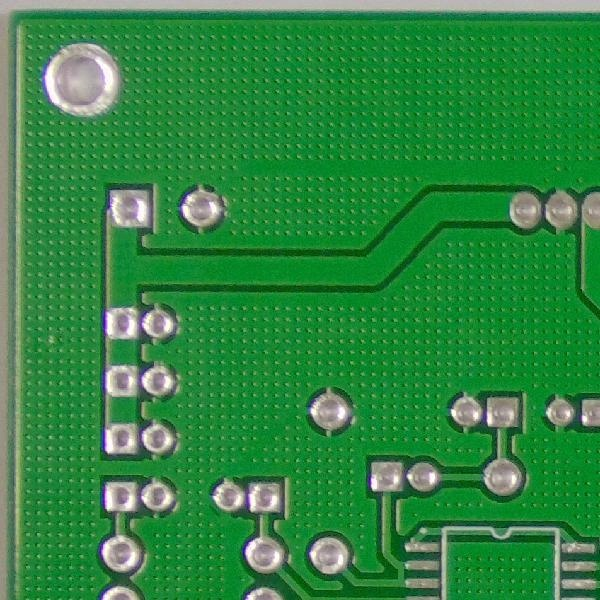short: (390, 559, 415, 587)
